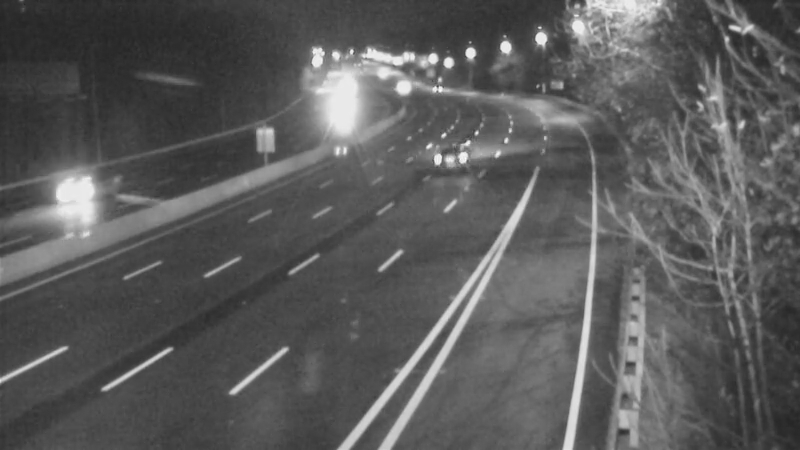vehicle: (411, 115, 491, 195), (39, 149, 119, 229), (409, 65, 459, 115), (373, 63, 423, 113), (316, 85, 366, 135)
